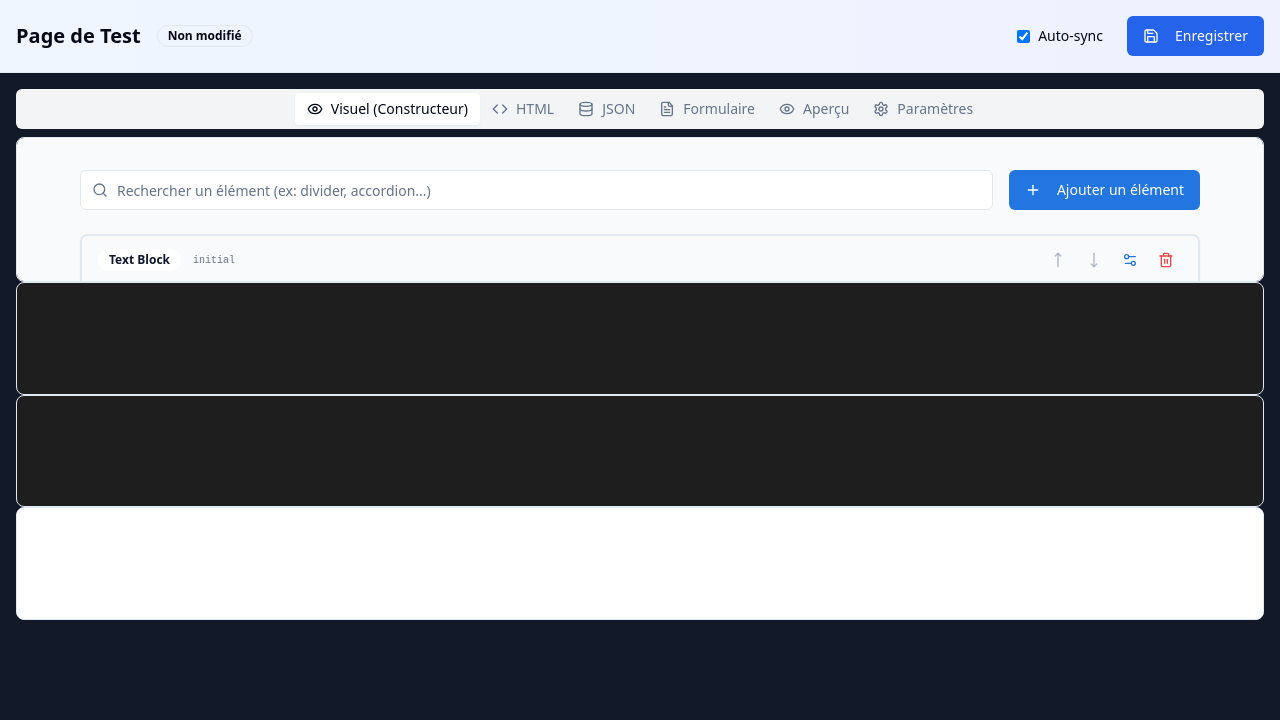
AdvancedPageEditorSync - Synchronisation Bidirectionnelle › Affiche le contenu initial
# Cliquer sur Formulaire pour voir les champs
Step 1. Click the tab "Formulaire" → {"x": 707, "y": 109}, box [647,93,767,125]
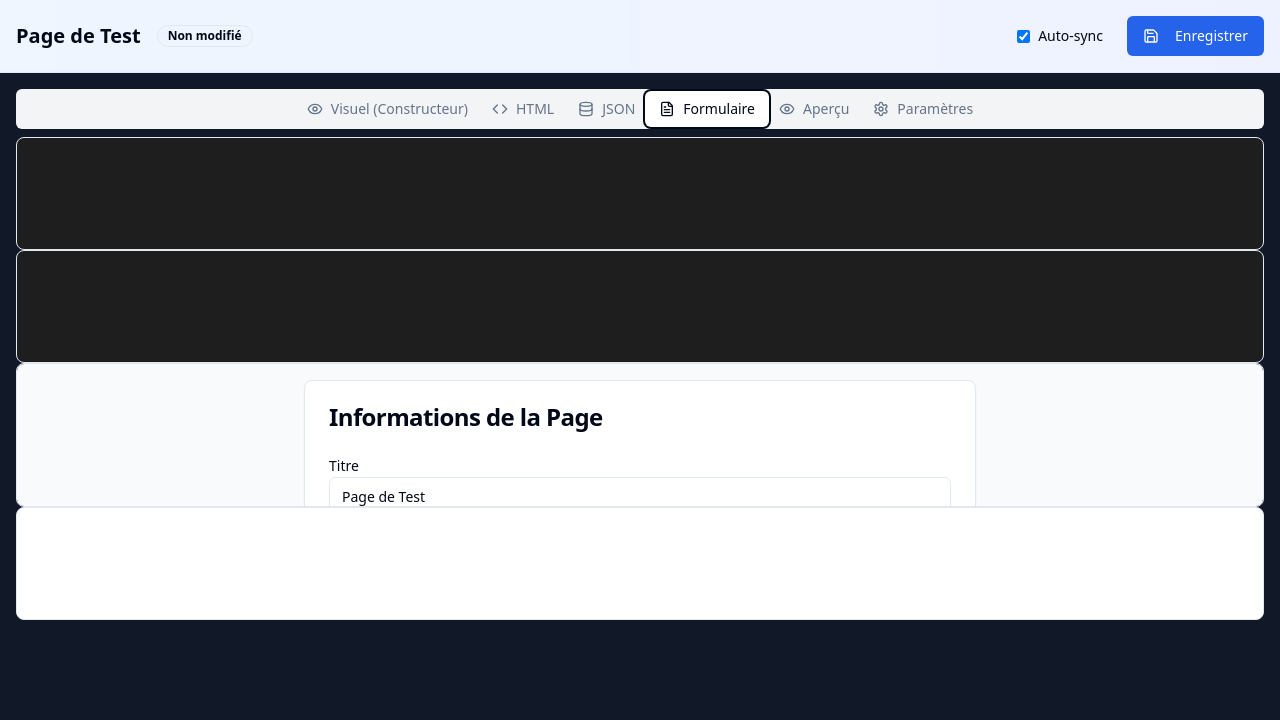
expect the field showing "Page de Test" is shown: met, box [329,476,951,507]
